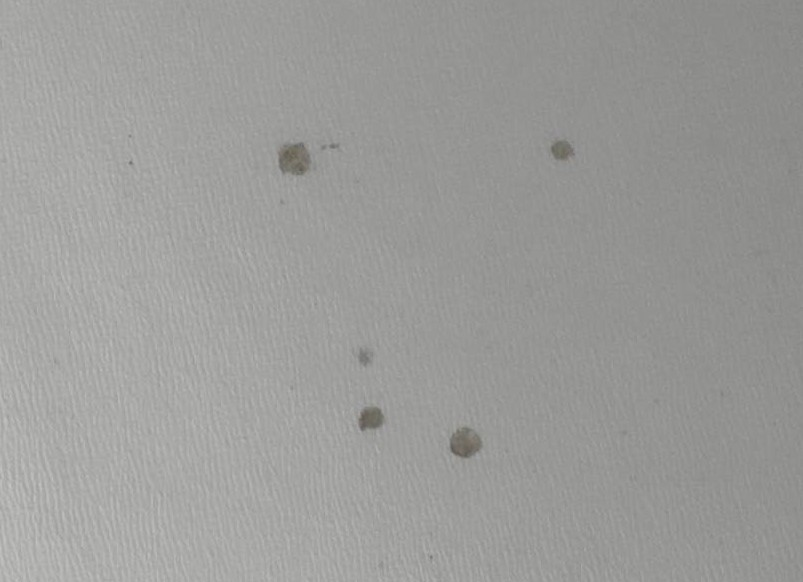grey spot: (278, 141, 311, 175), (449, 426, 481, 457), (357, 407, 385, 431), (549, 140, 575, 160), (358, 348, 370, 366)
